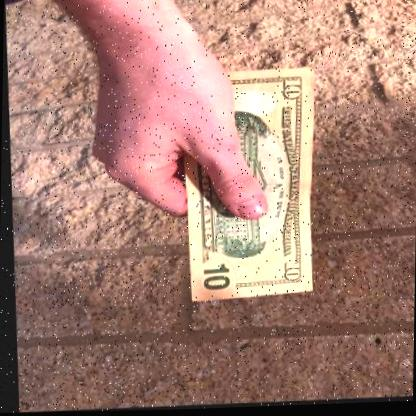ten-back: (174, 66, 322, 307)
